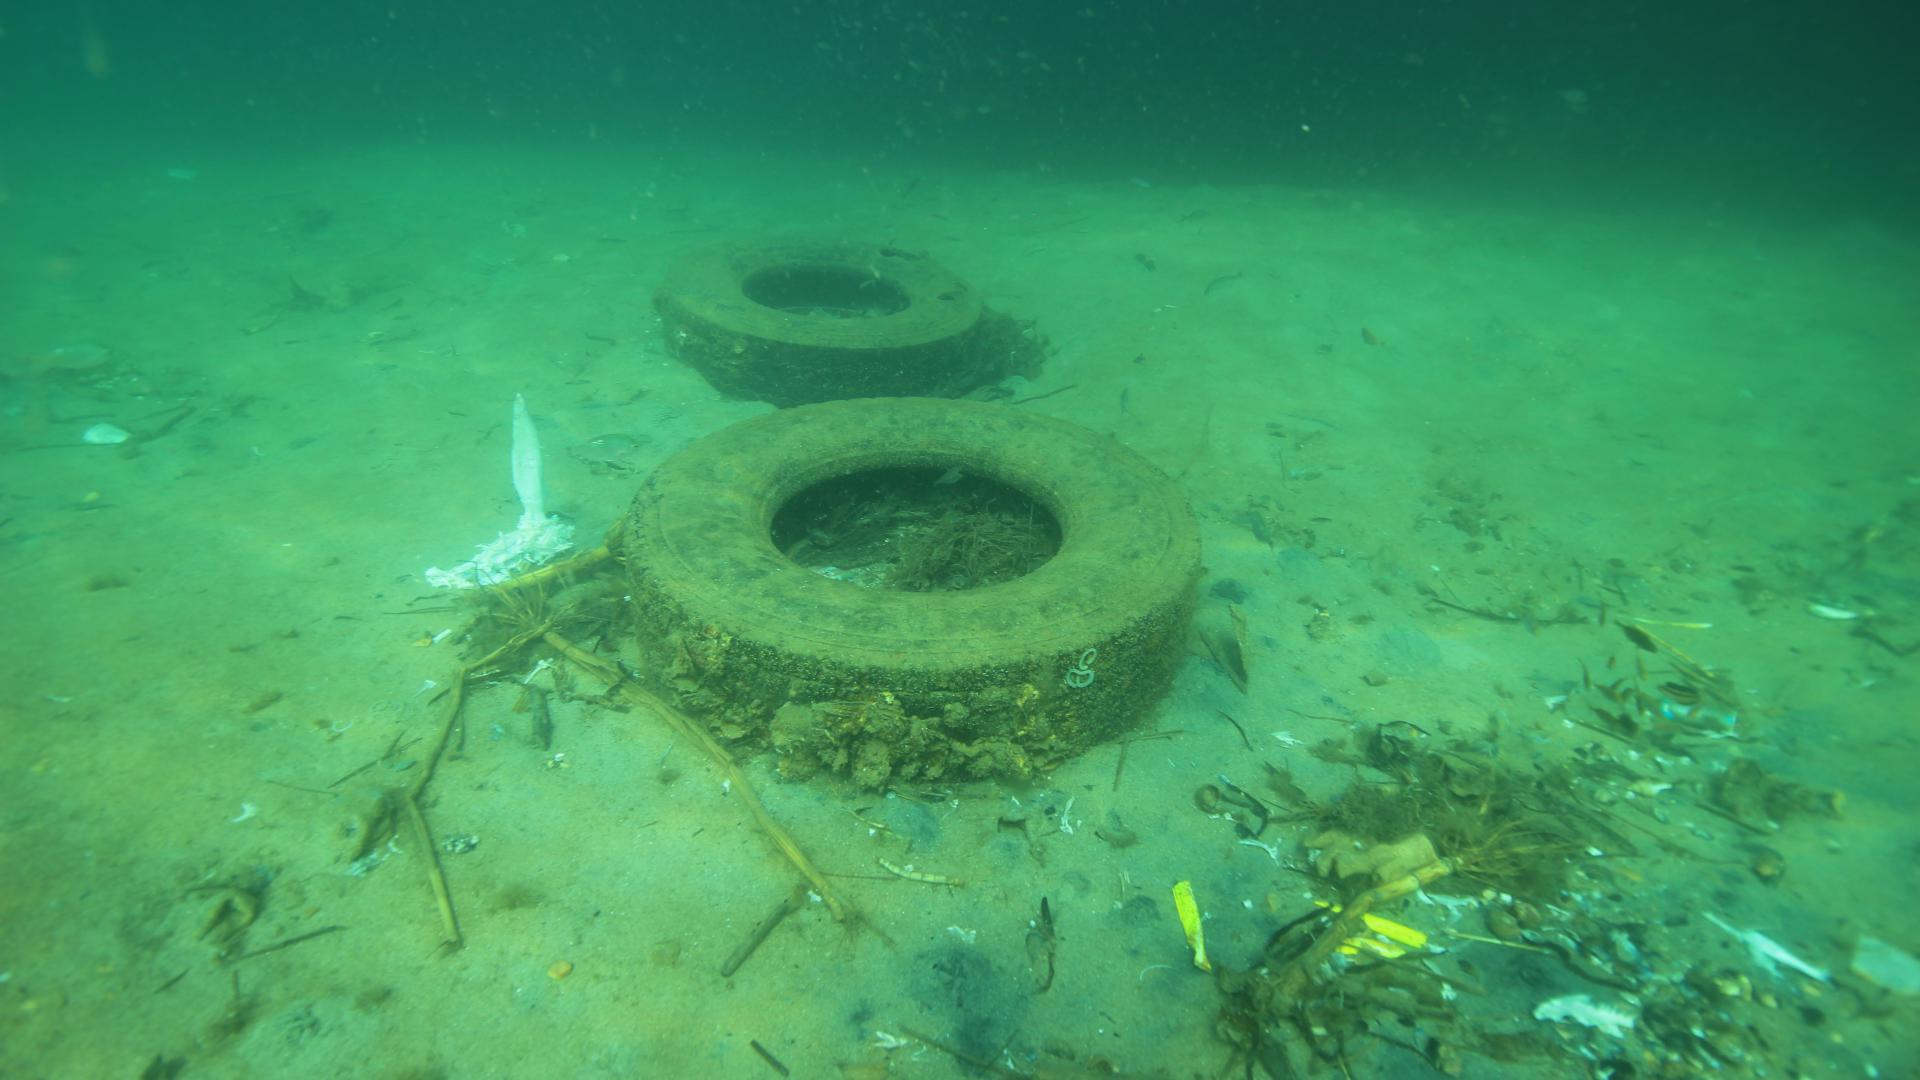tire: (616, 394, 1203, 783), (649, 243, 988, 394)
